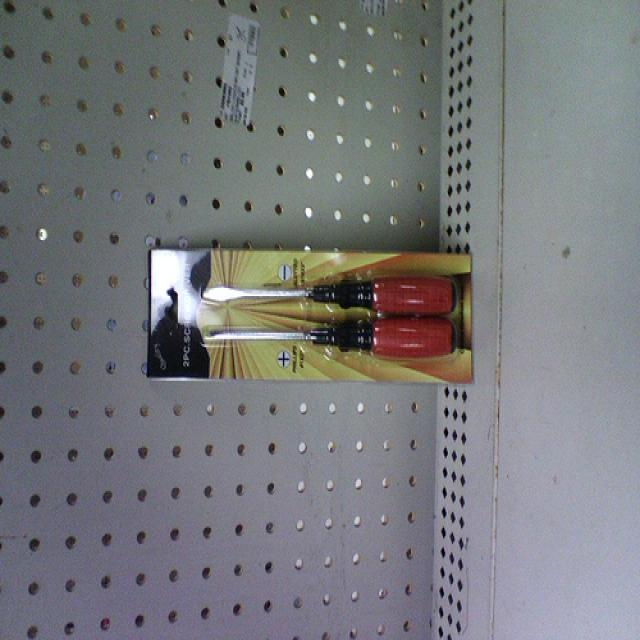screw_driver: (202, 277, 456, 316)
